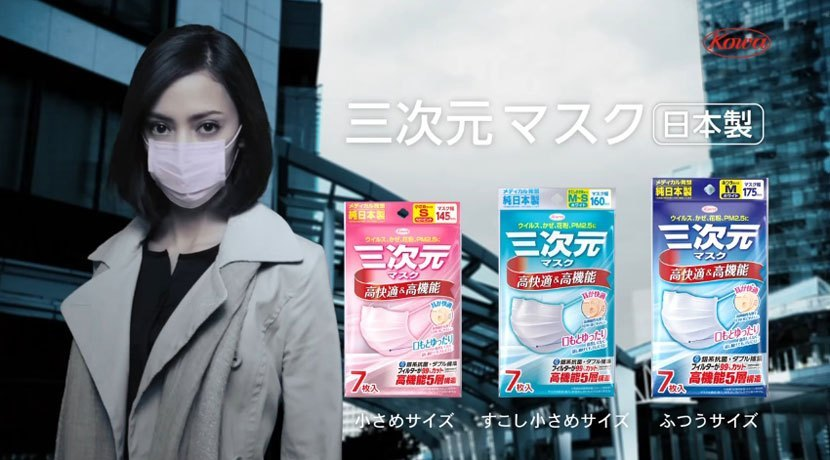mask: (143, 141, 234, 203)
